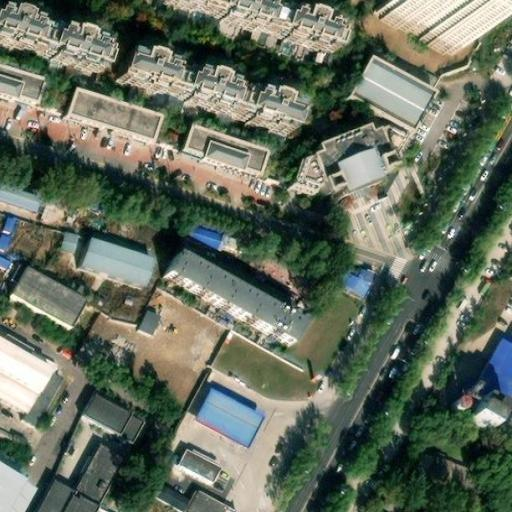building: (111, 55, 301, 143), (140, 0, 338, 63), (165, 258, 296, 347), (208, 321, 322, 410), (347, 62, 441, 141), (301, 125, 401, 195), (37, 443, 127, 512), (375, 0, 468, 57), (341, 180, 413, 253), (10, 262, 87, 329), (66, 91, 160, 144), (81, 235, 162, 292), (182, 129, 268, 179), (471, 329, 512, 427), (198, 389, 265, 448), (53, 415, 105, 485), (85, 395, 146, 442), (154, 483, 232, 512), (180, 446, 225, 486), (0, 68, 43, 106), (0, 180, 43, 212), (179, 219, 222, 250), (337, 265, 373, 298), (0, 207, 22, 251), (464, 411, 496, 440), (64, 230, 92, 258), (0, 252, 17, 290), (138, 309, 161, 336)
